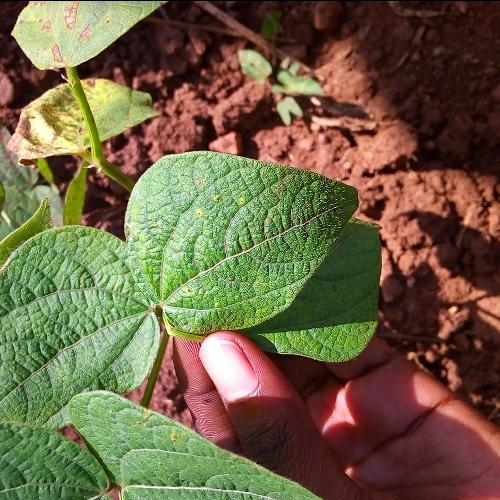hawar: (179, 168, 286, 306)
